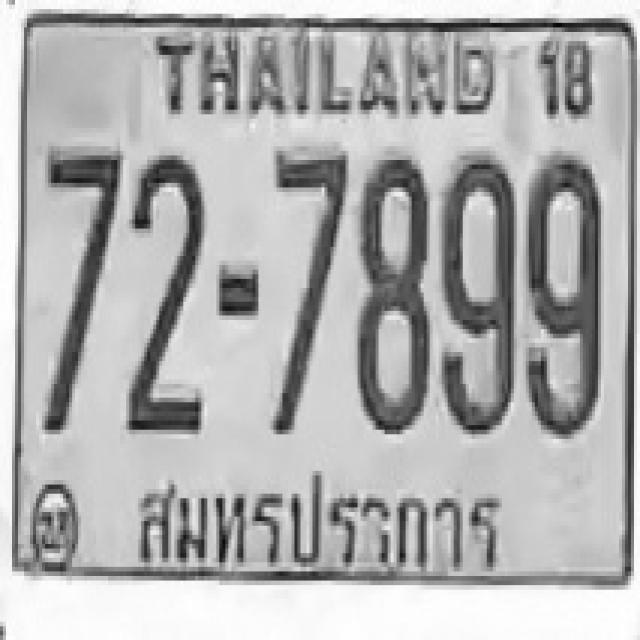2: (125, 151, 203, 430)
7: (269, 146, 347, 430), (42, 146, 120, 430)
8: (354, 151, 430, 430)
9: (526, 151, 601, 434), (440, 151, 515, 430)
SamutPrakan: (126, 460, 507, 594)
